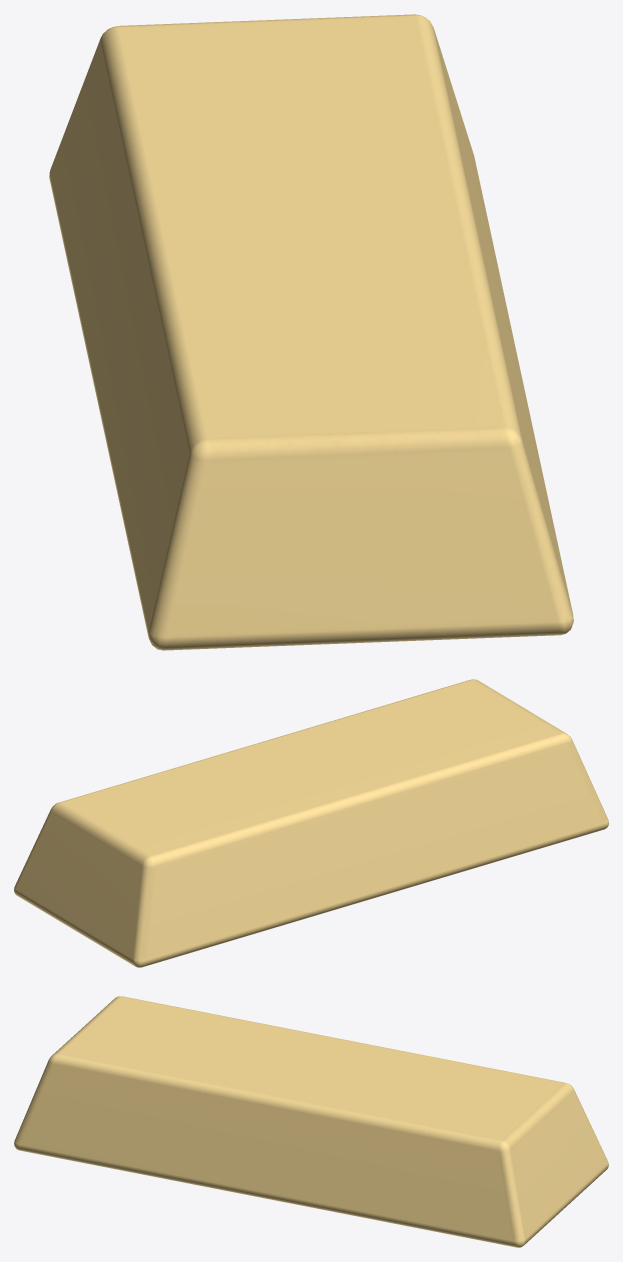
File: gold_bar_single.glb
3 renders of one model, top to bottom at view 1: azimuth 30°, elevation 25°; view 2: azimuth 150°, elevation 25°; view 3: azimuth 270°, elevation 25°, orthographic. The views are drawn at different scales.
Parts seen in each view (by area): view 1: pCube1; view 2: pCube1; view 3: pCube1.
Part boxes in pixels (<box>): pCube1: <box>49,14,573,650</box>; pCube1: <box>14,679,608,967</box>; pCube1: <box>14,996,608,1247</box>.
Size of the model in its own units: 0.0738 by 0.0176 by 0.1034.
1 material, 1 textured.
